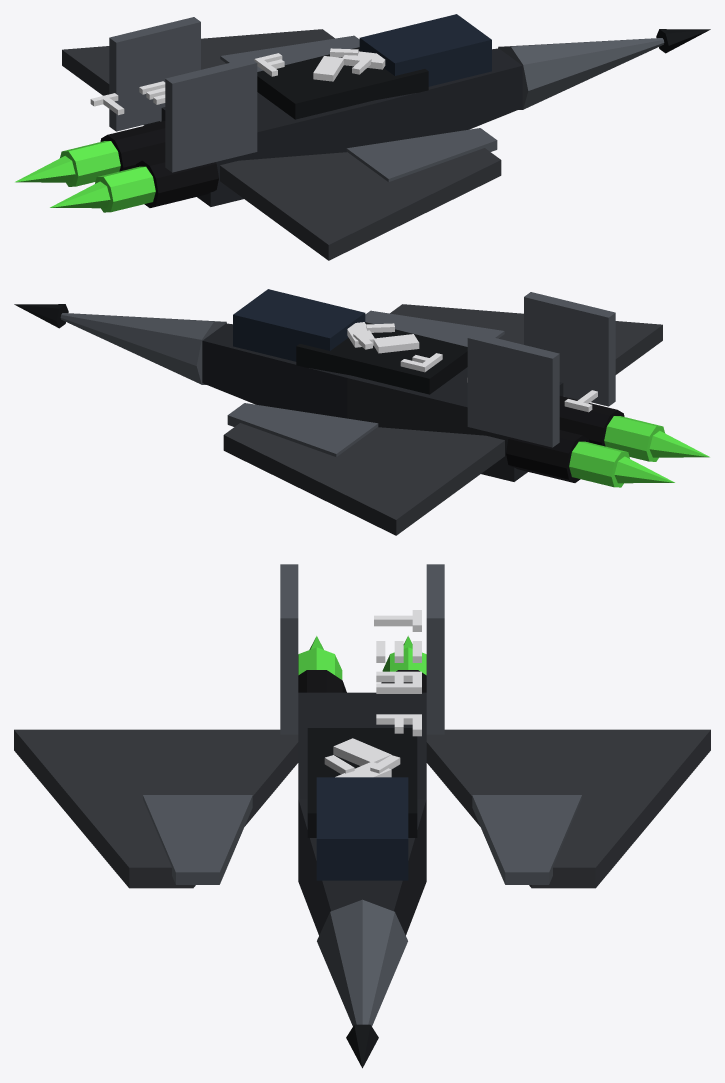
Rendered from FC_Fast.obj.
The picture shows the model from 3 angles, top to bottom: view 1: azimuth 30°, elevation 25°; view 2: azimuth 150°, elevation 25°; view 3: azimuth 270°, elevation 25°; orthographic projection. The views are drawn at different scales.
Parts seen in each view (by area): view 1: FC_Fast; view 2: FC_Fast; view 3: FC_Fast.
Part boxes in pixels (x1,y1,x2,y2): FC_Fast: [15, 14, 710, 260]; FC_Fast: [14, 289, 709, 535]; FC_Fast: [14, 564, 710, 1068].
Bounding box in the file's own units: 0.9184 × 0.1804 × 0.6248.
